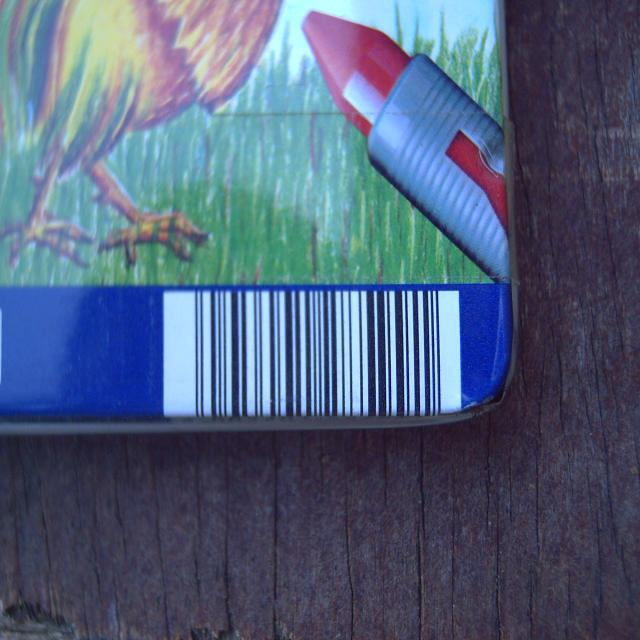barcode: (164, 288, 461, 417)
